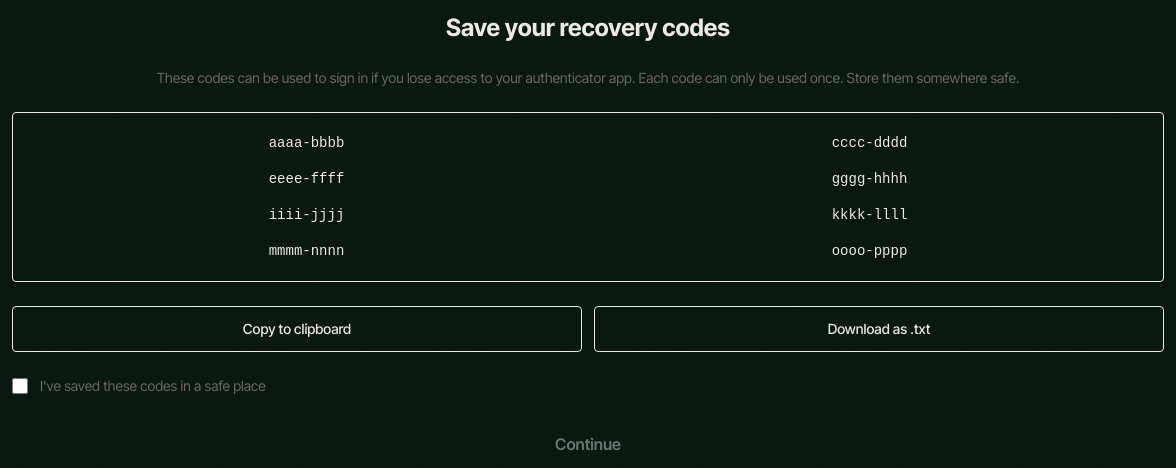
Test case: RecoveryCodesDisplay › copy button copies codes to clipboard
Click the button "Copy to clipboard": [297, 329] box [12,306,582,352]
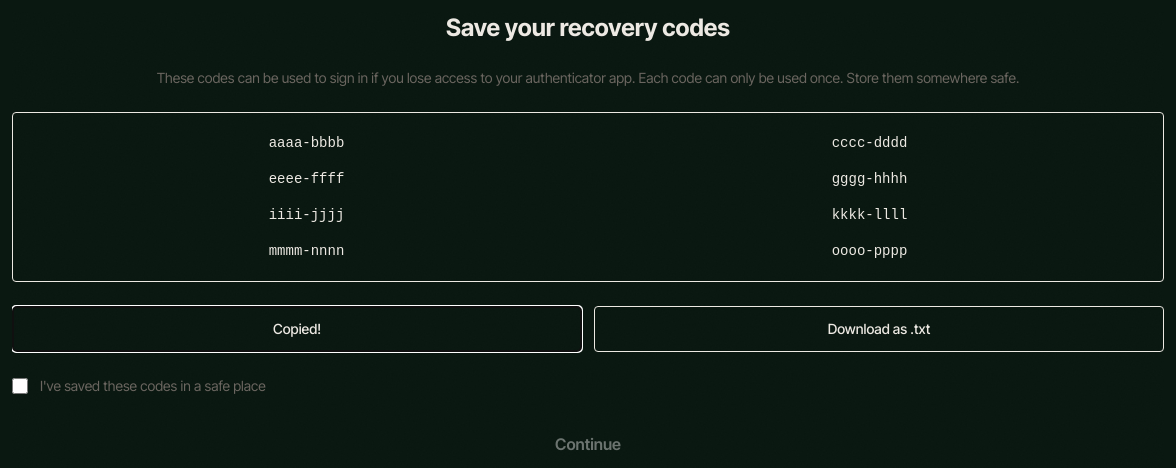
Expected: the button "Copied!" is shown, [12,306,582,352]
